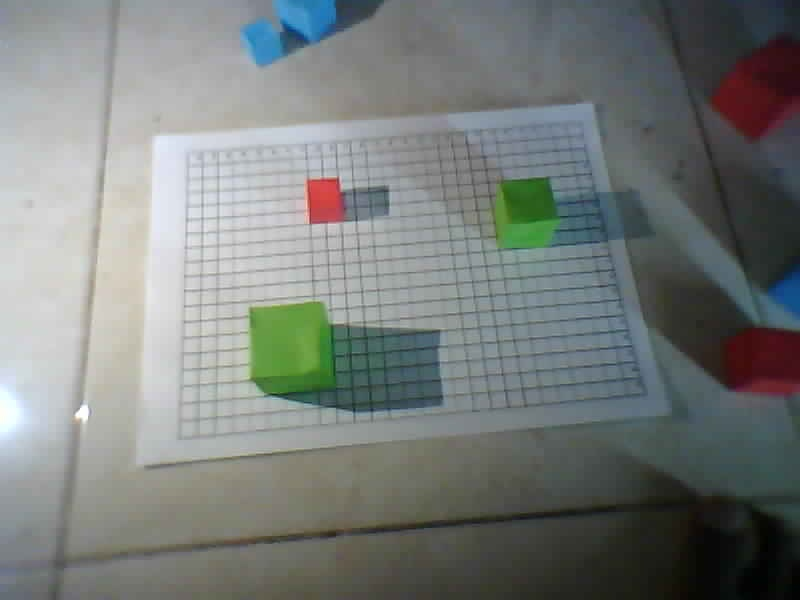LB: (175, 435, 183, 441)
LT: (184, 151, 192, 157)
RB: (642, 390, 650, 396)
RT: (576, 118, 584, 124)
